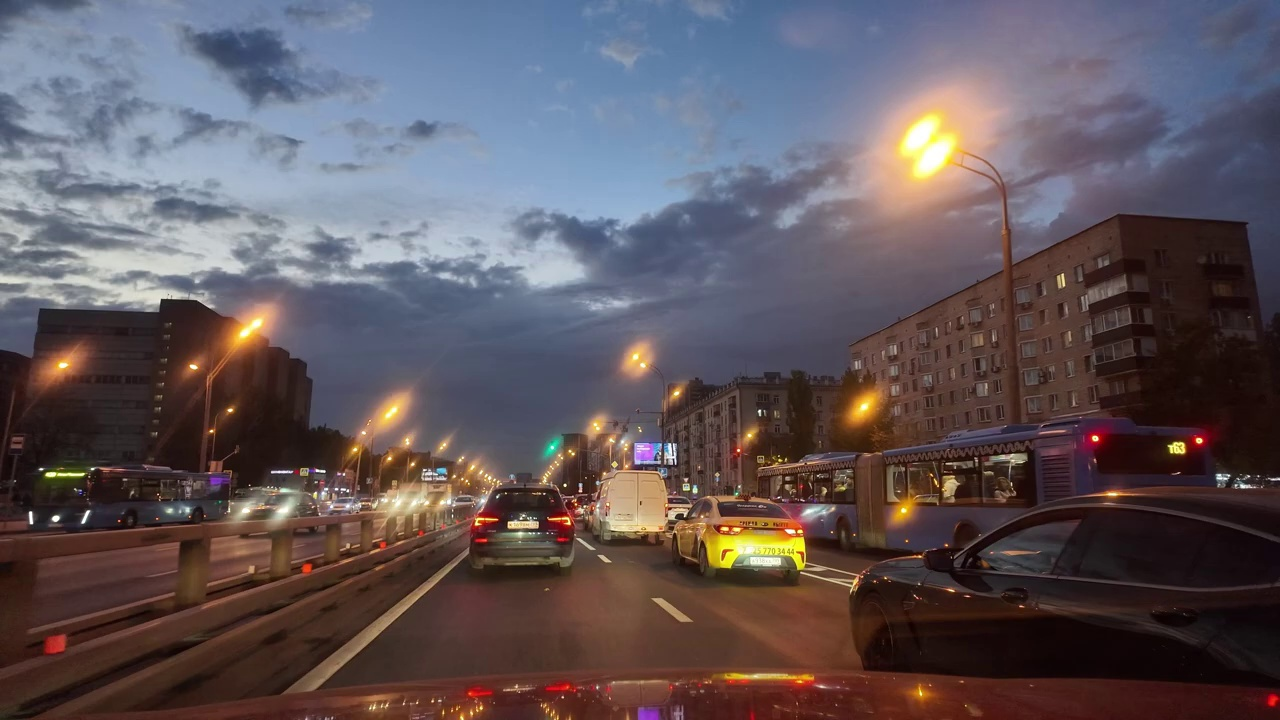acesa: (896, 114, 967, 184), (842, 387, 882, 433), (370, 394, 411, 435), (617, 343, 655, 378)
